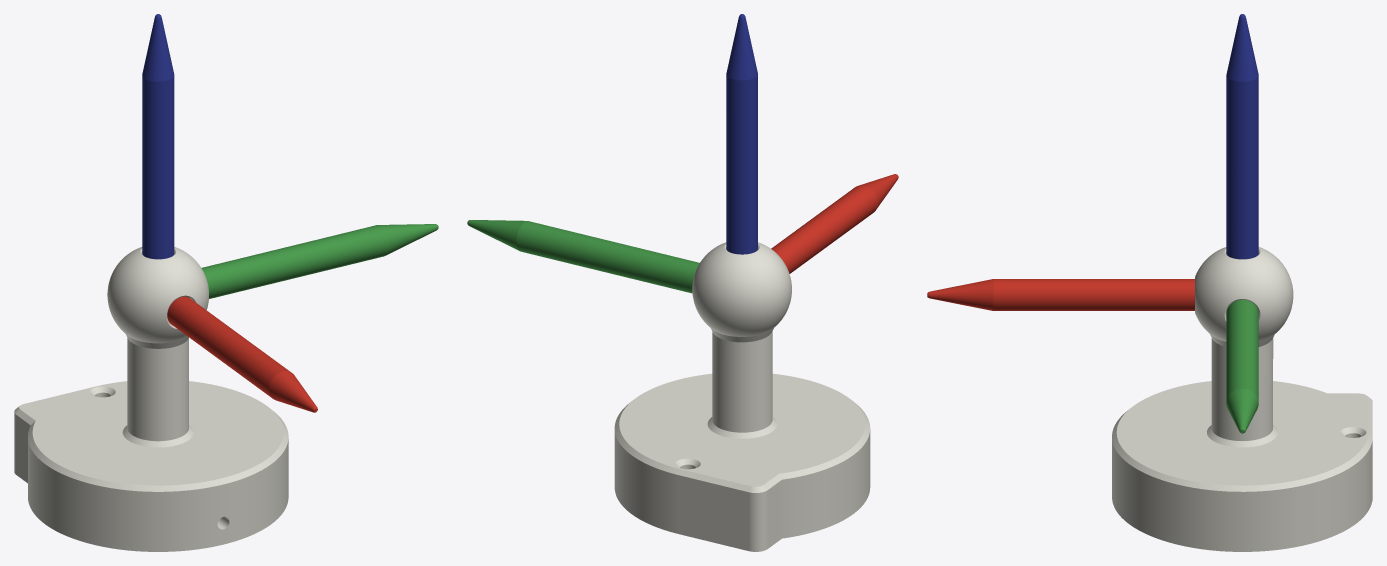
File: Gripper1-XYZAxis.obj
3 views of the same model, side by side, from view 1: azimuth 30°, elevation 25°; view 2: azimuth 150°, elevation 25°; view 3: azimuth 270°, elevation 25° (orthographic). The views are drawn at different scales.
Visible parts, largest first — view 1: Body1:1, Body1, Body1:2, Body1:3; view 2: Body1:1, Body1, Body1:2, Body1:3; view 3: Body1:1, Body1:3, Body1, Body1:2.
Boxes of the visible parts, x1,y1,x2,y2 form: Body1:1: (14, 247, 288, 551); Body1: (142, 14, 174, 259); Body1:2: (201, 224, 438, 298); Body1:3: (167, 296, 317, 412); Body1:1: (614, 242, 870, 551); Body1: (726, 14, 757, 254); Body1:2: (467, 220, 699, 293); Body1:3: (771, 174, 898, 273); Body1:1: (1112, 247, 1372, 551); Body1:3: (927, 279, 1194, 310); Body1: (1226, 14, 1258, 259); Body1:2: (1226, 299, 1258, 433).
Size of the model in its own units: 95.64 by 112 by 94.01.
